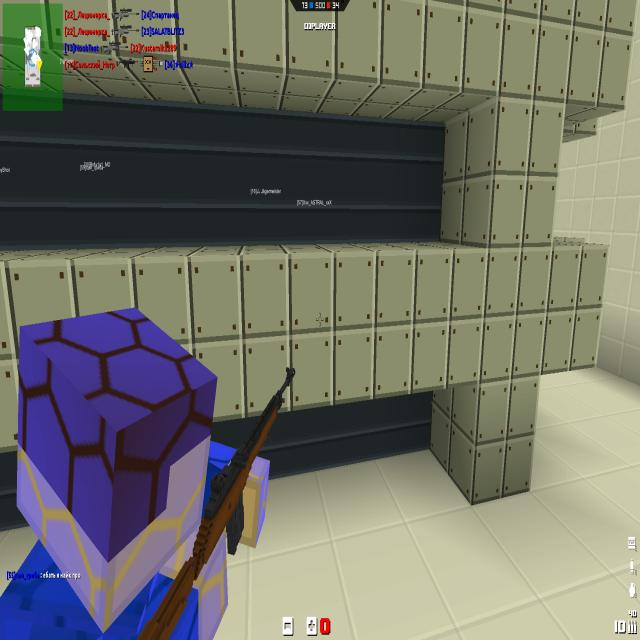player: (14, 312, 225, 638)
